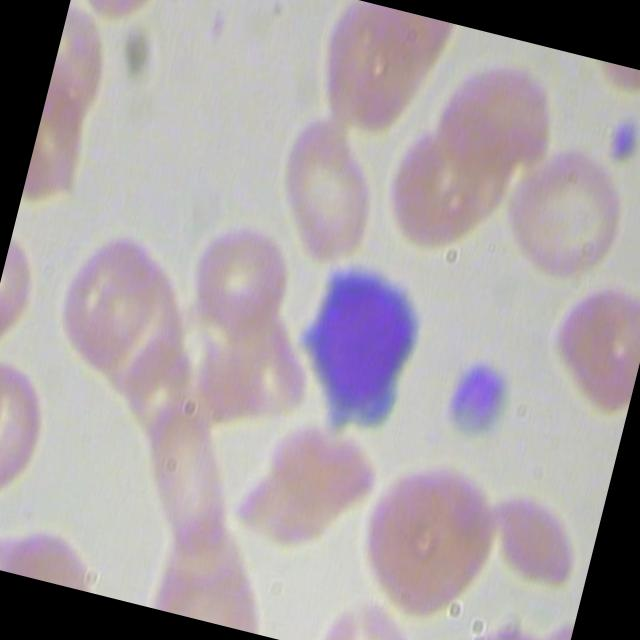Platelets: (434, 347, 530, 460), (597, 108, 640, 175)
RBC: (344, 444, 512, 633), (486, 131, 640, 303), (262, 103, 401, 270), (181, 215, 303, 350), (540, 276, 640, 418), (486, 482, 592, 594)
WBC: (284, 240, 439, 448)
